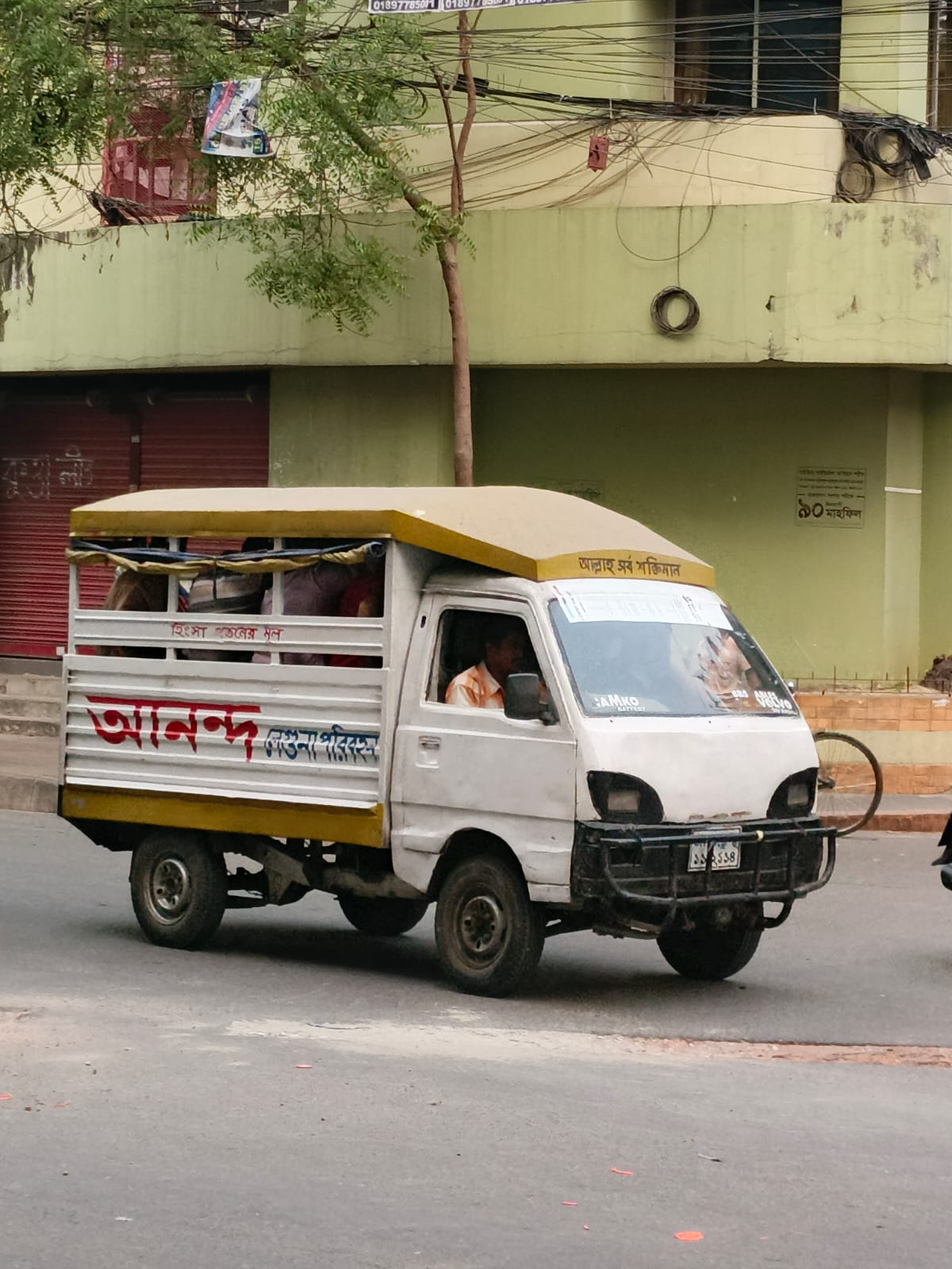Leguna: (45, 450, 859, 1052)
